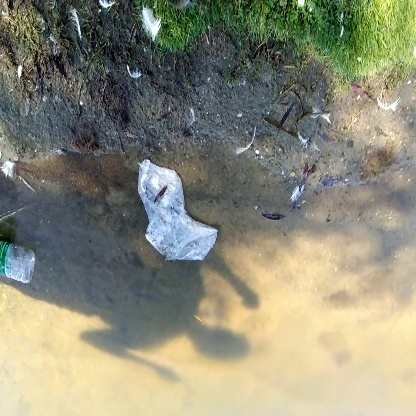plastic-bag: (134, 158, 220, 265)
